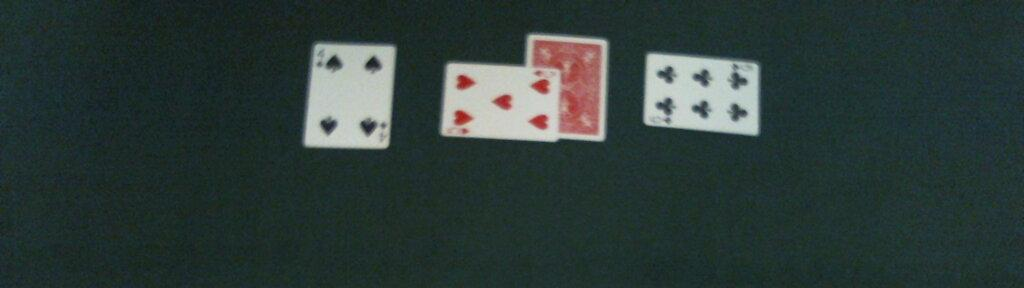back: (524, 32, 608, 143)
five: (439, 60, 558, 143)
four: (302, 41, 397, 150)
six: (641, 50, 759, 137)
